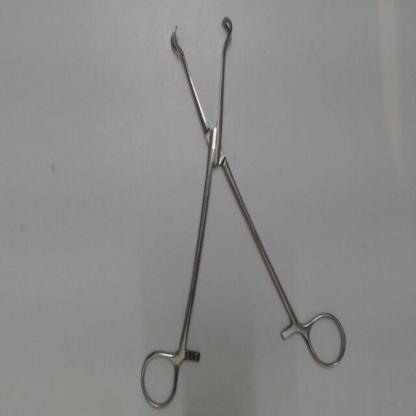8 Babcock Tissue Forceps: (135, 5, 354, 413)
